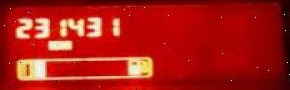1: (110, 15, 120, 38), (56, 17, 66, 37)
2: (15, 14, 31, 38)
3: (31, 15, 50, 38), (85, 15, 101, 36)
4: (66, 16, 83, 36)
X: (56, 38, 71, 49), (46, 40, 56, 50)
